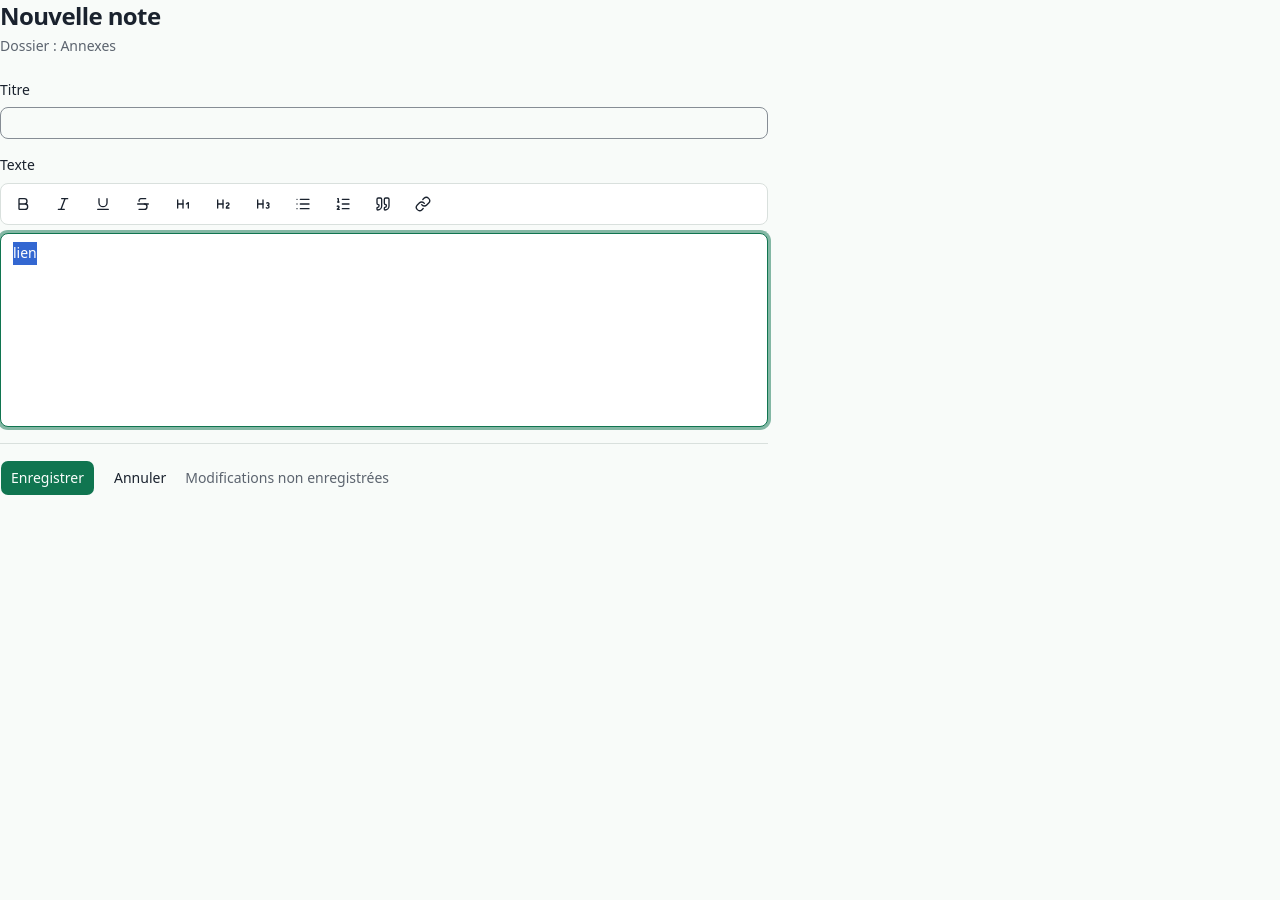
Test case: Note editor › a link outside http, https and mailto is refused
The width and height of the screenshot is (1280, 900).
expect the element named "Mise en forme" is shown: met, box [0,183,768,225]
Click the button named "Lien" at (423, 204), box [405,188,441,220]
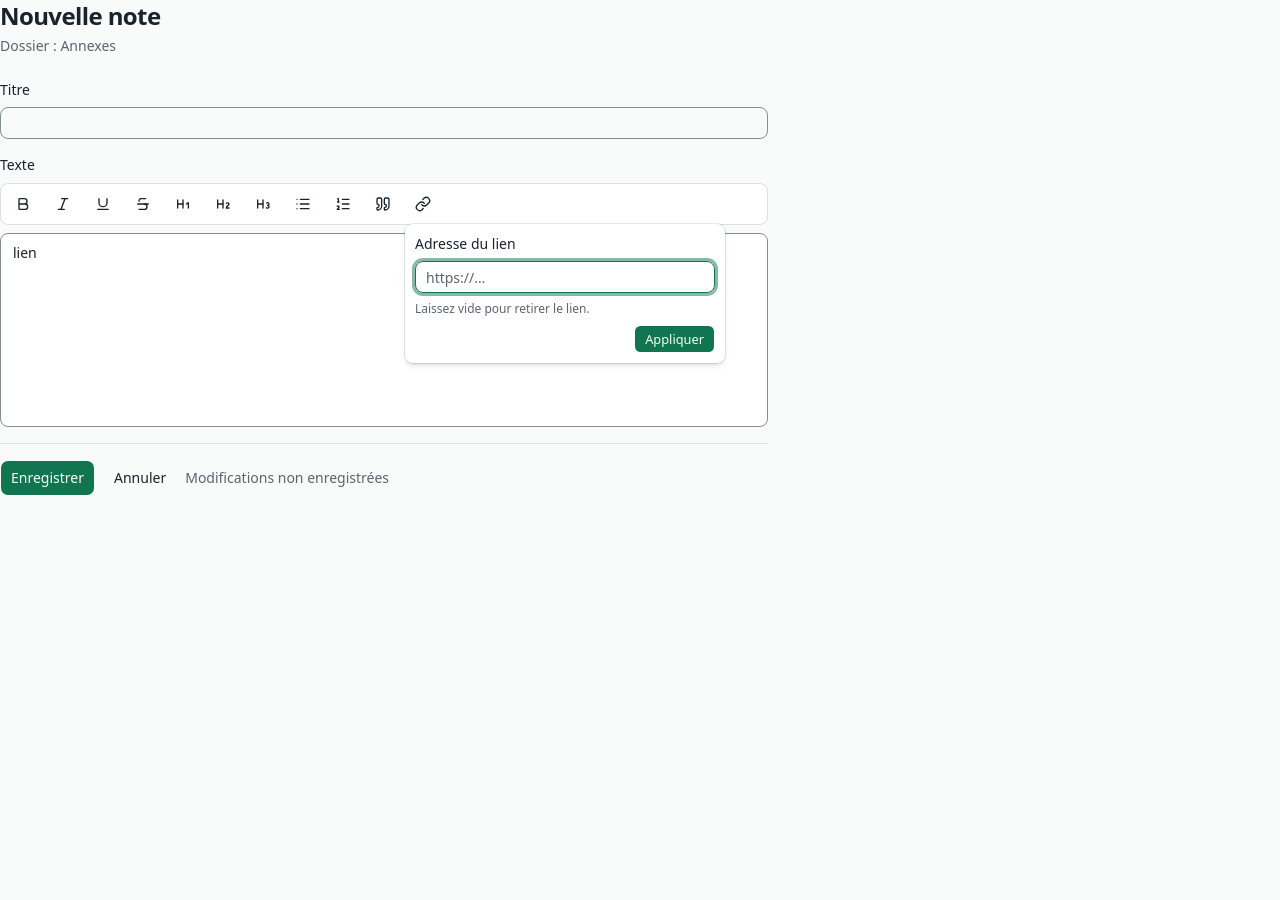
Type "javascript:alert(1)" into the field labelled "Adresse du lien" at (565, 277), box [415,261,715,293]
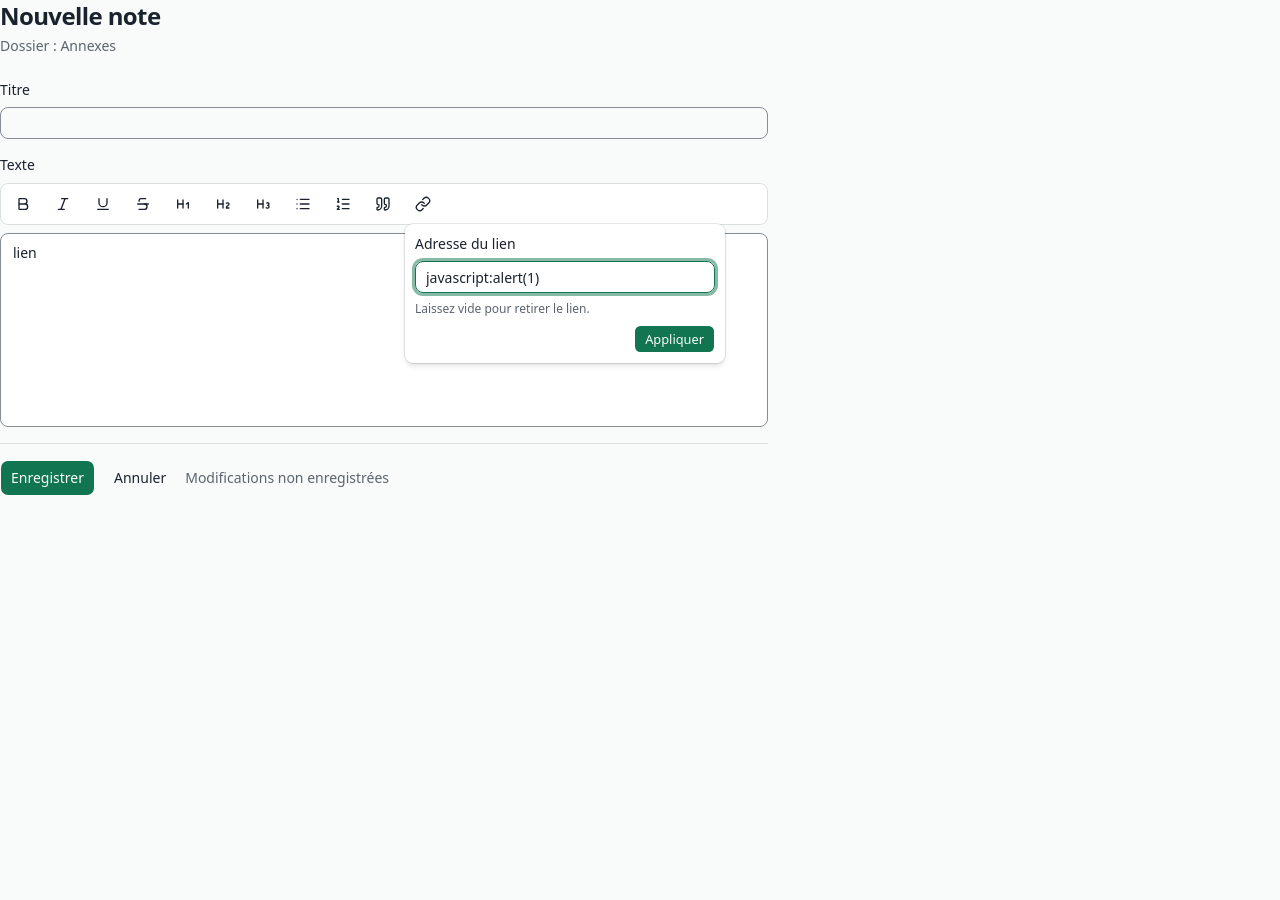
Click the button "Appliquer" at (675, 339), box [634,325,715,353]
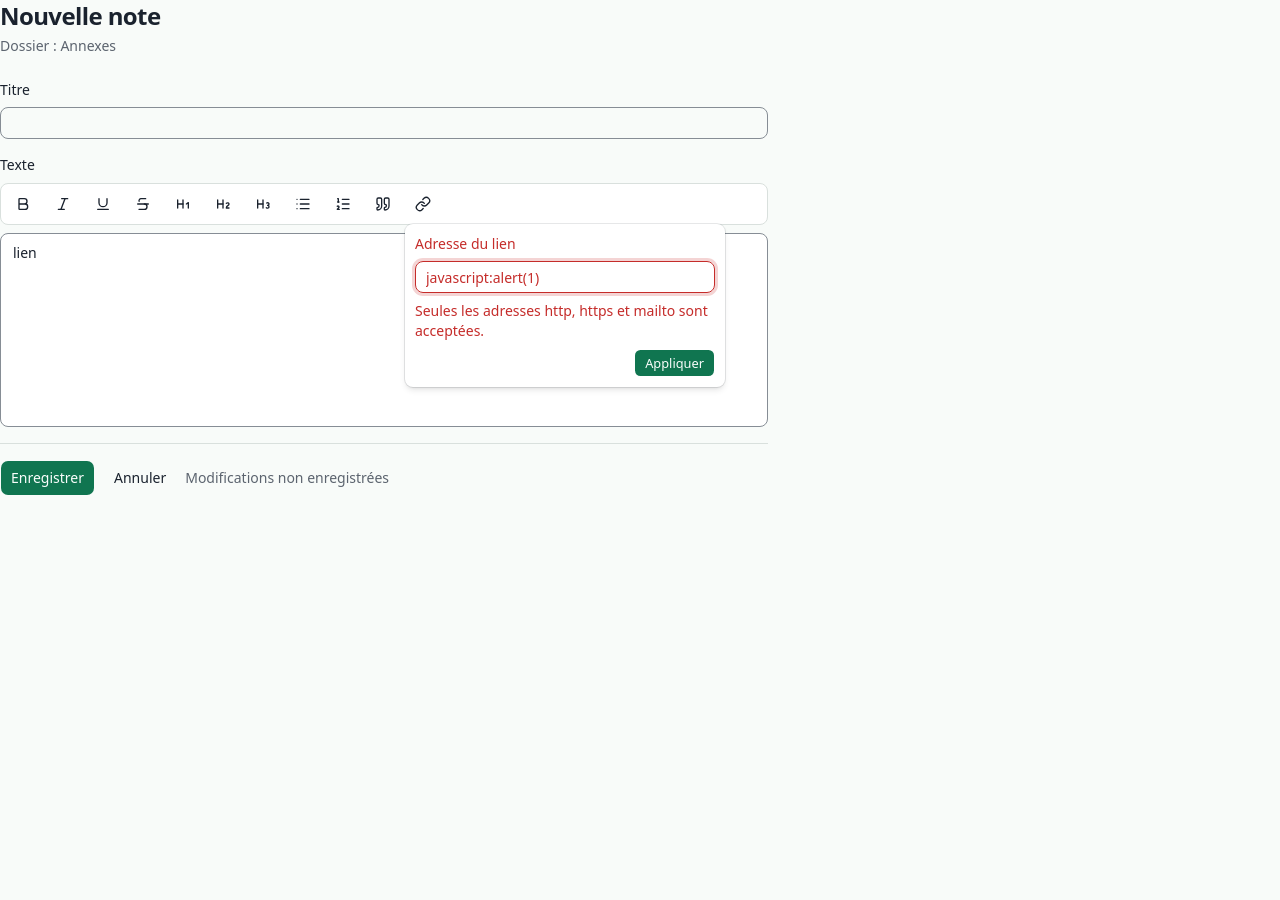
expect the text "Seules les adresses http, https et mailto sont acceptées." is shown: met, box [415,301,715,341]
